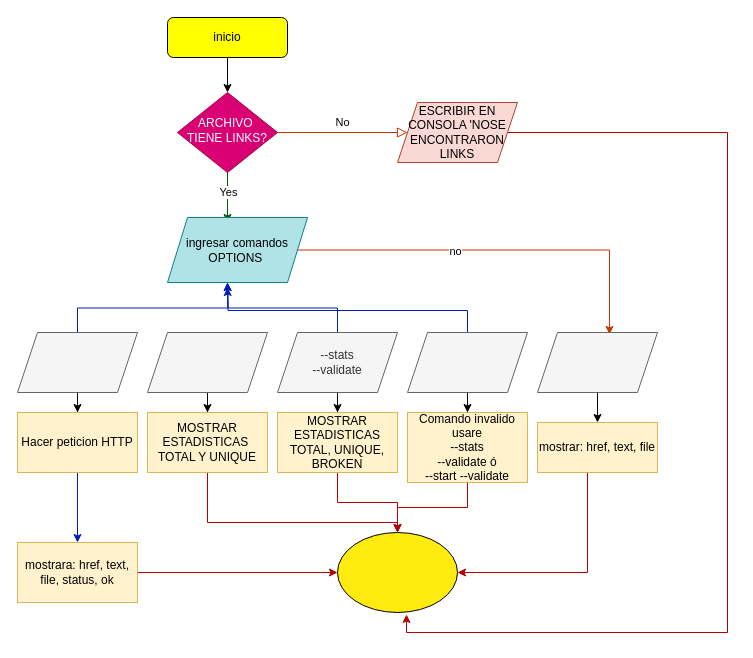
This 753x658 diagram has some shape labels left out. Here are the shapes that lost their labels. From the top down, the centre of each, then its label:
point 77,362: --validate
point 207,362: --stats
point 467,362: comando invalido
point 597,362: Principal comando
point 397,572: FIN
